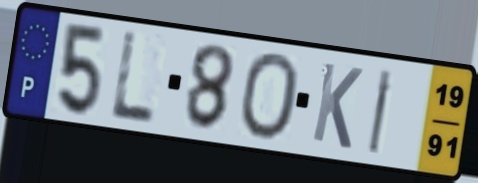5: (53, 21, 106, 119)
8: (184, 41, 237, 134)
I: (365, 66, 397, 157)
K: (308, 58, 365, 153)
L: (107, 29, 157, 127)
O: (236, 50, 302, 143)
